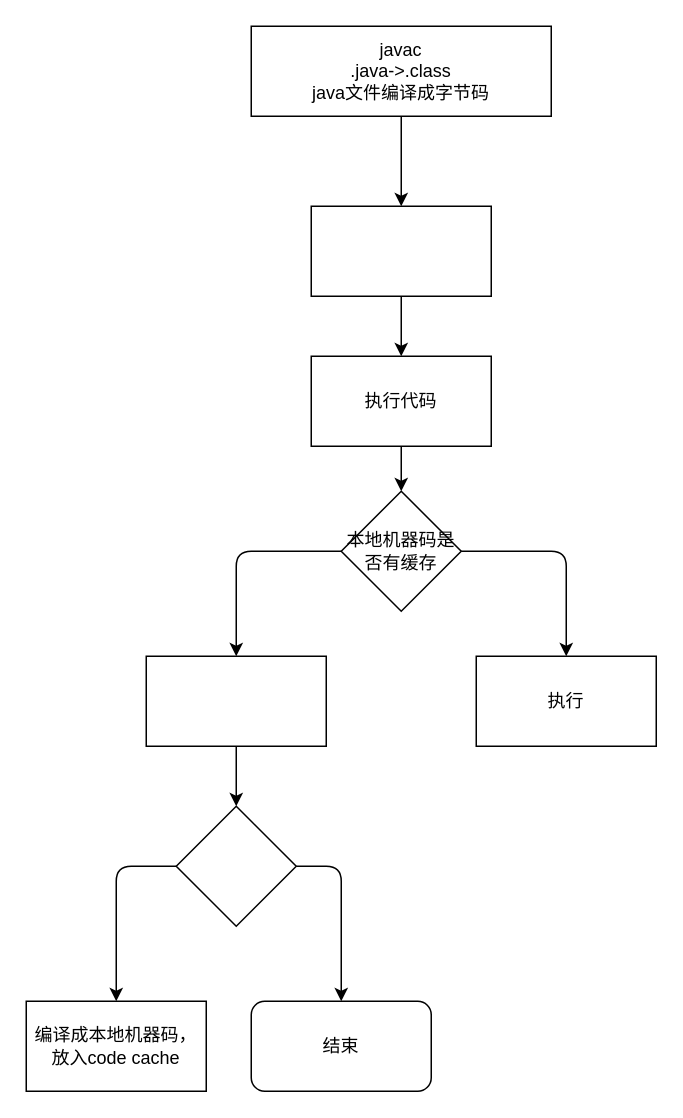
Some shapes in this 683 by 1118 pixel diagram are drawn without their labels. Here are the shapes that lost their labels. From the top down, the centre of each, then its label:
(x=400, y=250): jvm加载字节码
(x=235, y=700): 解释器将字节码解释为机器码并执行(会有个字节码对应机器码的映射)
(x=235, y=865): 是否热点代码(多次执行)
